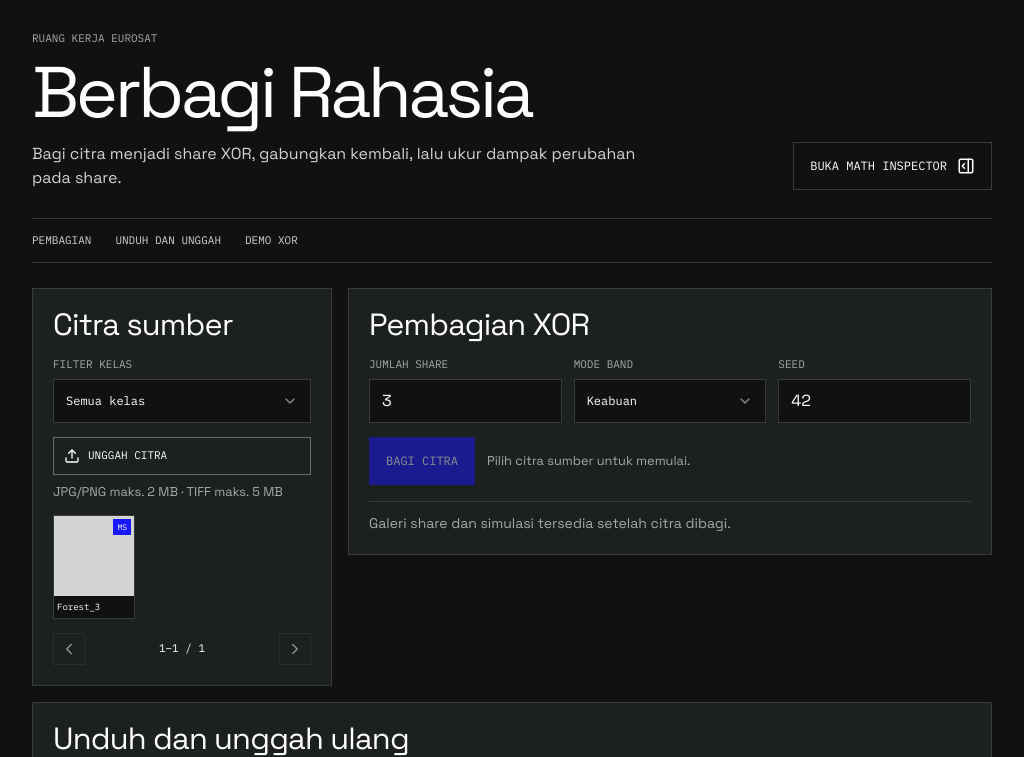
Test: Workbench M8.2 › membuat ulang sesi kedaluwarsa memakai parameter pembagian terakhir
The width and height of the screenshot is (1024, 757).
Click the button "MS Forest_3".
click(94, 567)  # box [53,515,135,619]
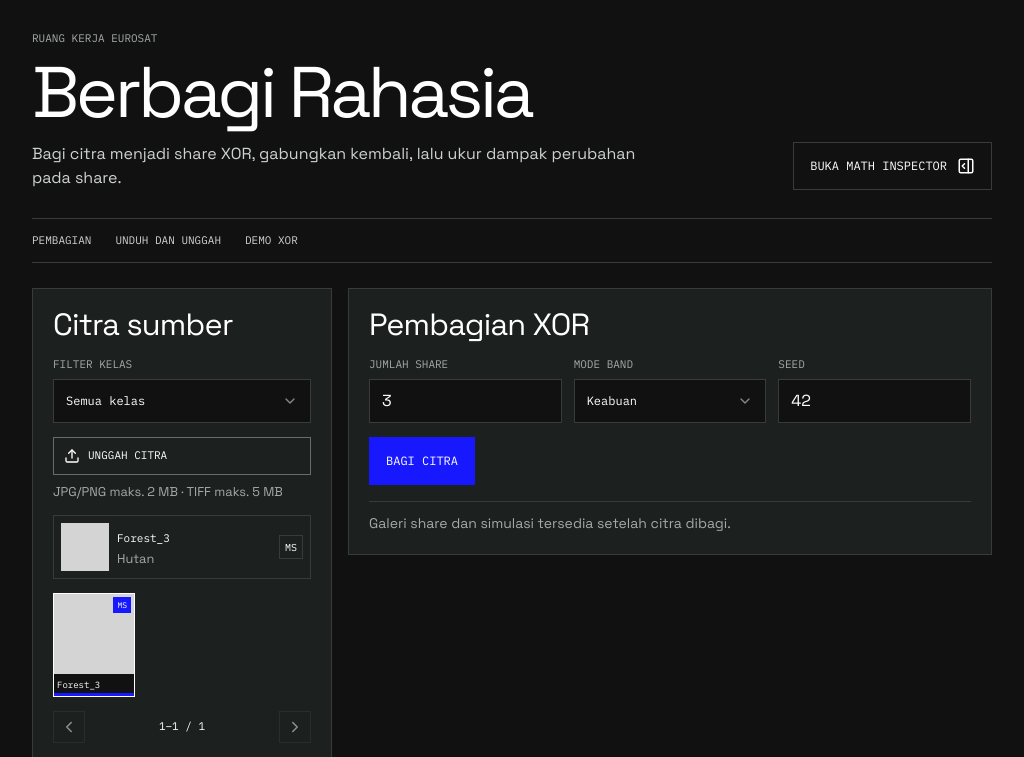
Click the button "Bagi citra".
click(422, 461)  # box [369,437,475,485]
(page scrolled)
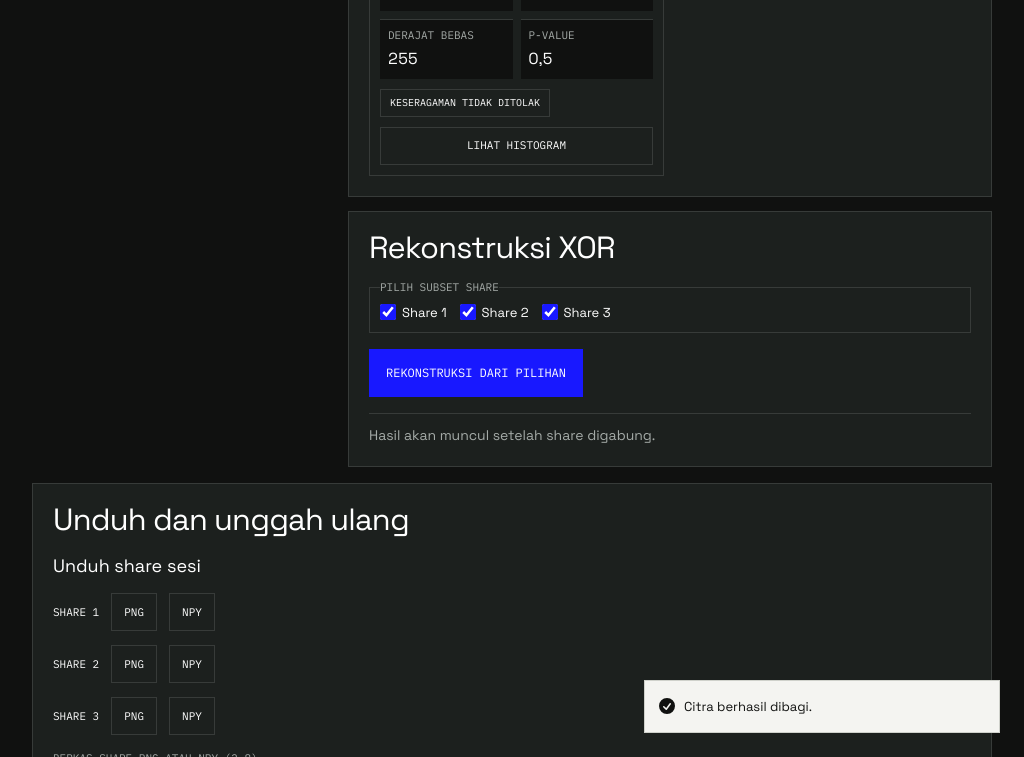
Click the button "Rekonstruksi dari pilihan".
click(476, 373)  # box [369,349,583,397]
(page scrolled)
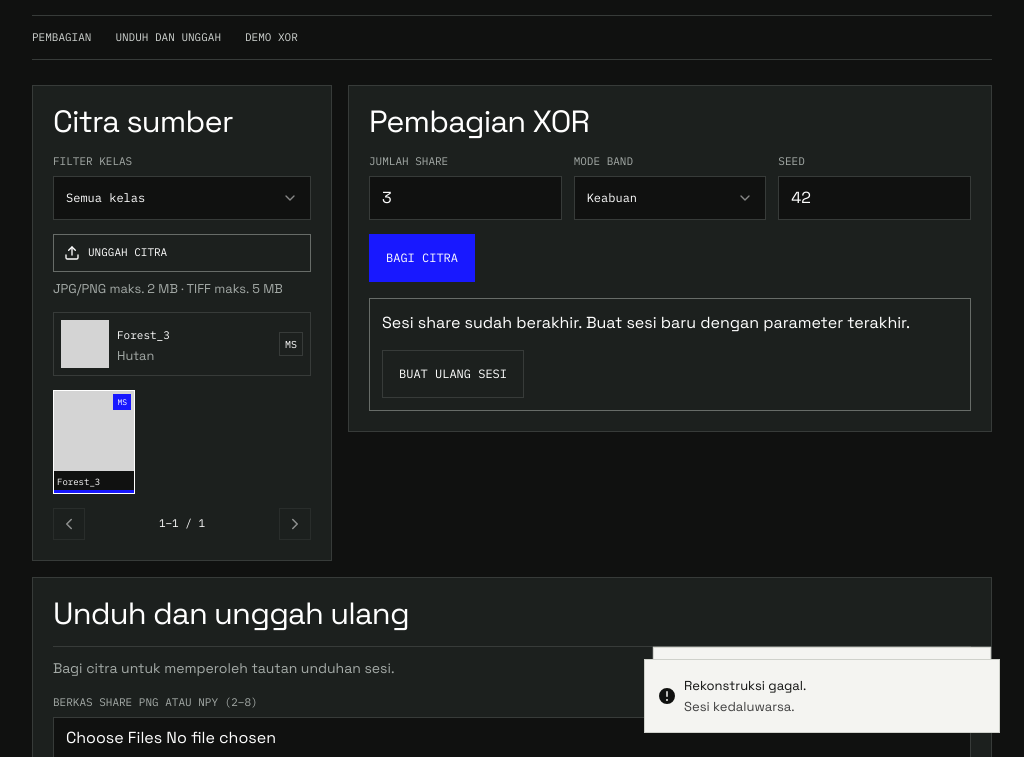
Now the text "Sesi kedaluwarsa." is shown, box [684,698,806,716]
Click the button "Buat ulang sesi".
click(453, 374)  # box [382,350,524,398]
(page scrolled)
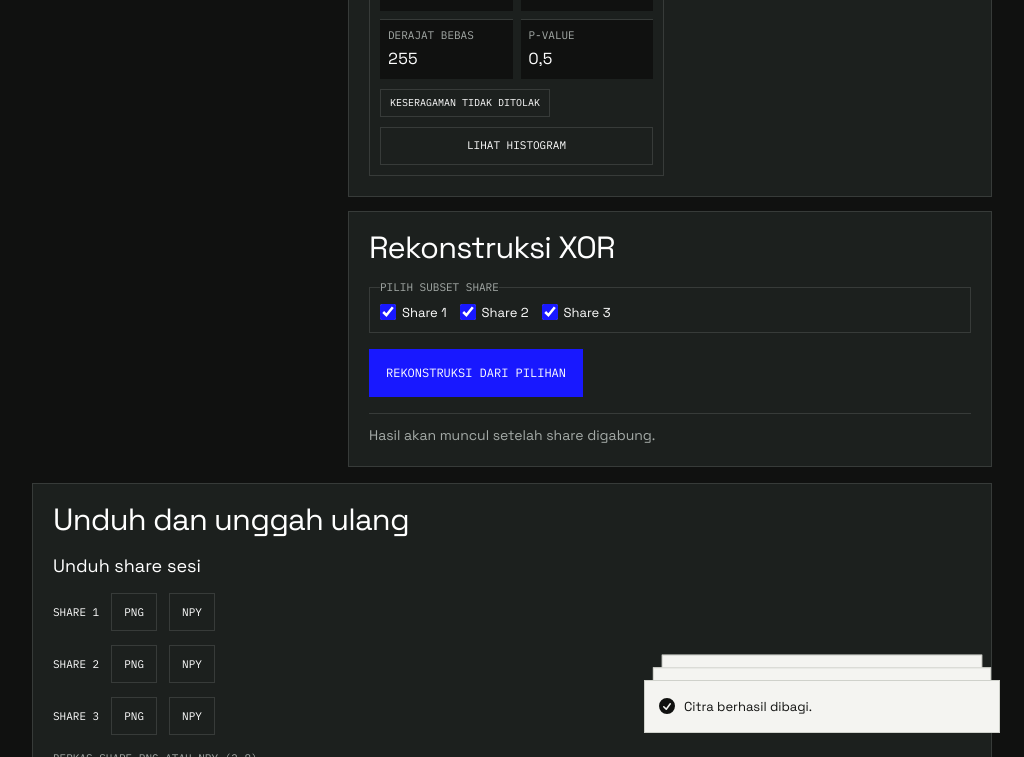
Now the button "Rekonstruksi dari pilihan" is shown, box [369,349,583,397]
